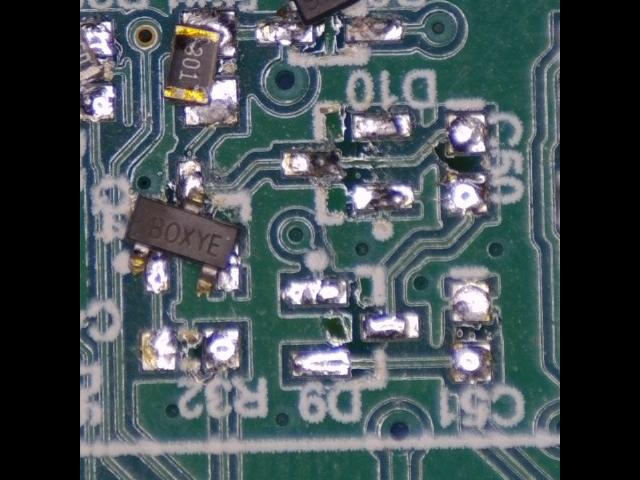Incorrect_installation: (126, 160, 242, 296), (163, 9, 238, 128), (257, 1, 361, 45), (81, 20, 117, 121)
